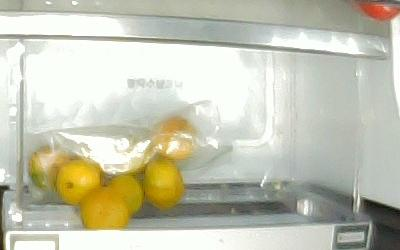tangerine: (55, 158, 104, 206), (78, 186, 128, 229), (143, 157, 183, 210), (104, 174, 144, 219)
tangerine_vinyl: (28, 146, 74, 190), (153, 117, 196, 158)
